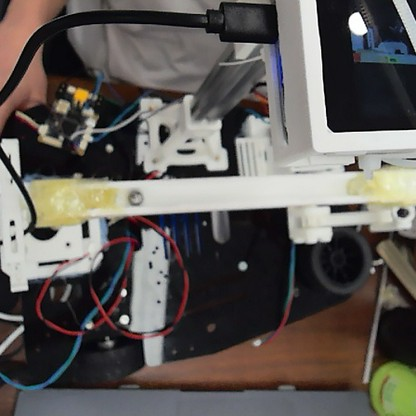ironball: (122, 185, 146, 208)
